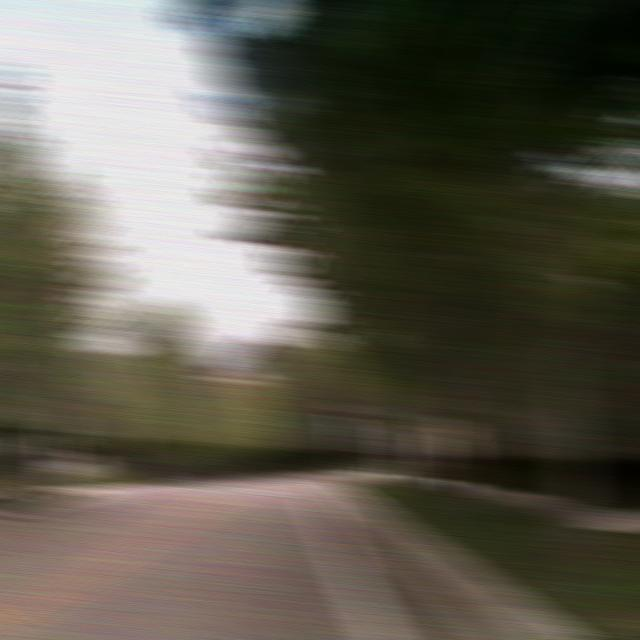stop_sign: (326, 393, 363, 419)
